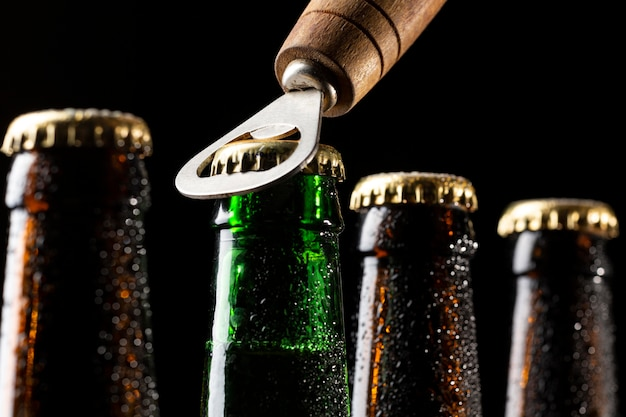alcohol: (2, 107, 156, 417), (204, 139, 351, 417), (349, 167, 487, 417), (496, 188, 626, 417)
